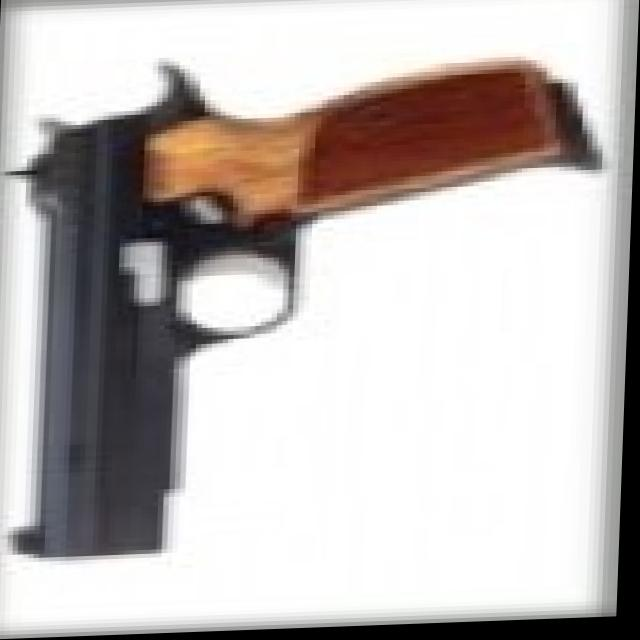handgun: (0, 47, 590, 576)
